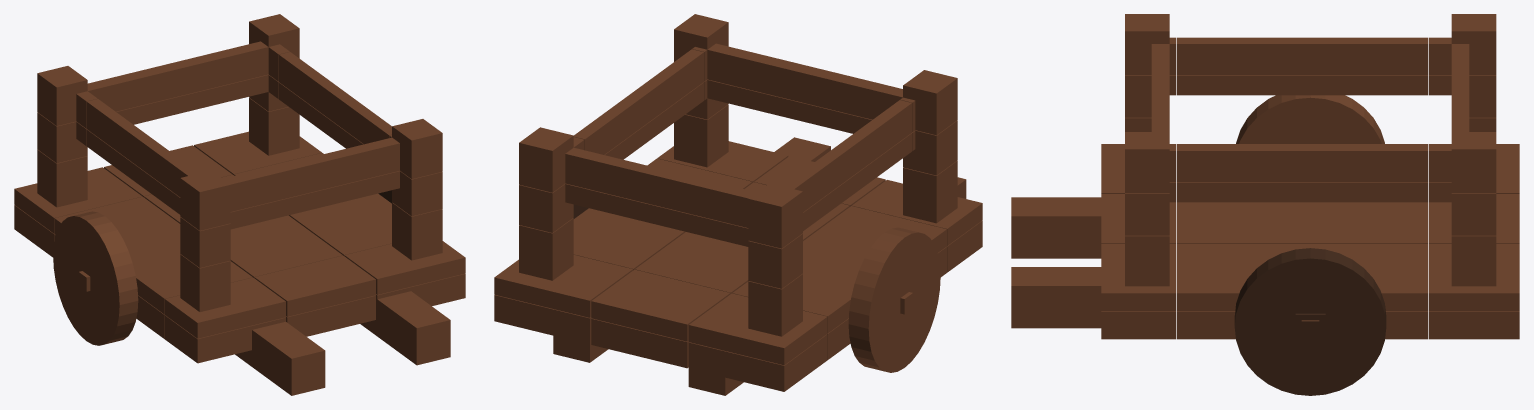
File: cart-broken.fbx
3 renders of one model, left to right at view 1: azimuth 30°, elevation 25°; view 2: azimuth 150°, elevation 25°; view 3: azimuth 270°, elevation 25°, orthographic. The views are drawn at different scales.
Visible parts, largest first — view 1: woodBasePlanks.007, woodBasePlanks.011, woodBasePlanks.019, woodBasePlanks.012, woodBasePlanks.016, woodBasePlanks.015, woodBasePlanks.025, woodBasePlanks.002, woodBasePlanks.004, woodBasePlanks.018, woodBasePlanks.013, woodBasePlanks.024 (+11 smaller); view 2: woodBasePlanks.011, woodBasePlanks.007, woodBasePlanks.019, woodBasePlanks.013, woodBasePlanks.018, woodBasePlanks.025, woodBasePlanks.006, woodBasePlanks.017, woodBasePlanks.012, woodBasePlanks.028, woodBasePlanks.015, woodBasePlanks.024 (+12 smaller); view 3: woodBasePlanks.008, woodBasePlanks.024, woodBasePlanks.026, woodBasePlanks.030, woodBasePlanks.028, woodBasePlanks.011, woodBasePlanks.004, woodBasePlanks.007, woodBasePlanks.006, woodBasePlanks.019, woodBasePlanks.016, woodBasePlanks.002 (+11 smaller).
Boxes of the visible parts, x1,y1,x2,y2 form: woodBasePlanks.007: (180,119,442,230); woodBasePlanks.011: (37,14,299,128); woodBasePlanks.019: (53,211,138,345); woodBasePlanks.012: (180,171,442,267); woodBasePlanks.016: (165,315,325,395); woodBasePlanks.015: (165,254,285,338); woodBasePlanks.025: (54,196,252,314); woodBasePlanks.002: (344,202,465,294); woodBasePlanks.004: (360,273,465,365); woodBasePlanks.018: (14,149,142,233); woodBasePlanks.013: (37,74,288,163); woodBasePlanks.024: (144,174,342,278); woodBasePlanks.011: (519,127,802,248); woodBasePlanks.007: (674,14,957,135); woodBasePlanks.019: (848,227,940,372); woodBasePlanks.013: (519,183,802,288); woodBasePlanks.018: (688,274,827,365); woodBasePlanks.025: (732,206,946,333); woodBasePlanks.006: (494,218,632,317); woodBasePlanks.017: (591,269,730,341); woodBasePlanks.012: (686,79,957,175); woodBasePlanks.028: (573,158,752,270); woodBasePlanks.015: (852,160,982,245); woodBasePlanks.024: (635,182,849,293); woodBasePlanks.008: (1234,248,1386,395); woodBasePlanks.024: (1176,202,1427,243); woodBasePlanks.026: (1176,144,1427,182); woodBasePlanks.030: (1176,37,1427,75); woodBasePlanks.028: (1176,244,1427,311); woodBasePlanks.011: (1428,14,1496,193); woodBasePlanks.004: (1011,267,1175,339); woodBasePlanks.007: (1125,14,1175,193); woodBasePlanks.006: (1428,235,1519,311); woodBasePlanks.019: (1236,95,1384,143); woodBasePlanks.016: (1011,197,1101,258); woodBasePlanks.002: (1101,235,1175,311).
Bounding box in the file's own units: 2.35 × 1.43 × 2.88.
